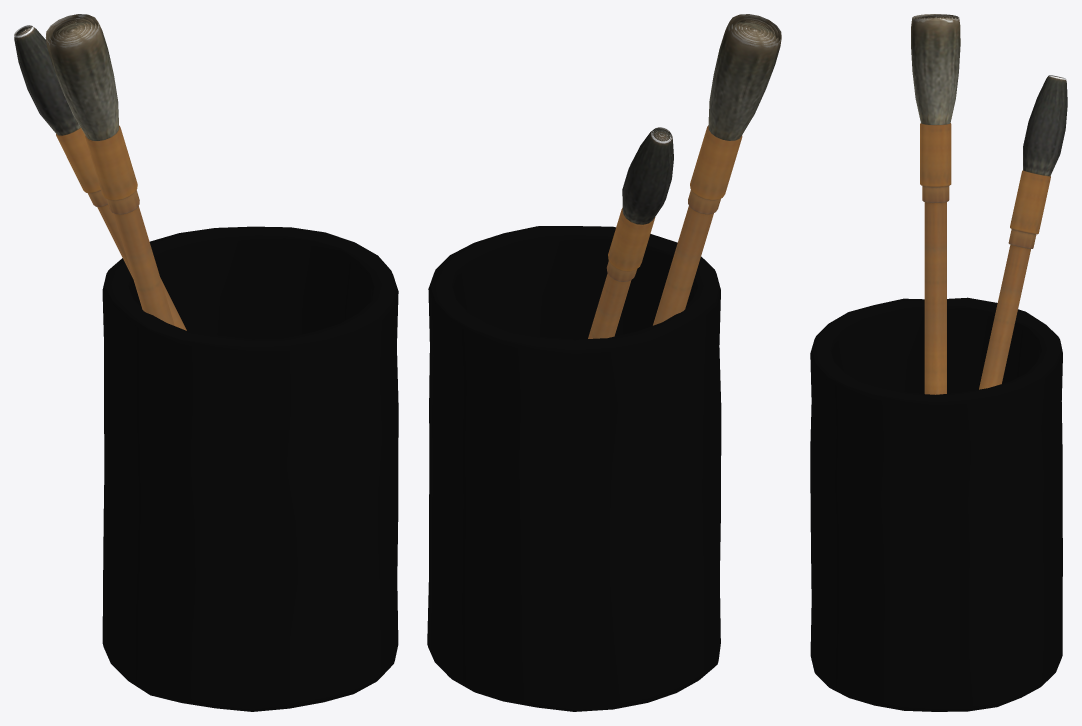
Rendered from brush.gltf.
3 views of the same model, side by side, from view 1: azimuth 30°, elevation 25°; view 2: azimuth 150°, elevation 25°; view 3: azimuth 270°, elevation 25° (orthographic). The views are drawn at different scales.
Parts seen in each view (by area): view 1: Cylinder, Brush_01, Brush_02; view 2: Cylinder, Brush_01, Brush_02; view 3: Cylinder, Brush_01, Brush_02.
Boxes of the visible parts, x1,y1,x2,y2 form: Cylinder: [102, 226, 398, 711]; Brush_01: [45, 14, 174, 325]; Brush_02: [14, 25, 186, 330]; Cylinder: [427, 226, 721, 711]; Brush_01: [653, 14, 781, 325]; Brush_02: [588, 127, 673, 338]; Cylinder: [810, 297, 1062, 711]; Brush_01: [911, 14, 960, 394]; Brush_02: [979, 75, 1067, 389].
Size of the model in its own units: 0.2901 by 0.5654 by 0.2289.
Materials: 2 (2 with a texture image).
